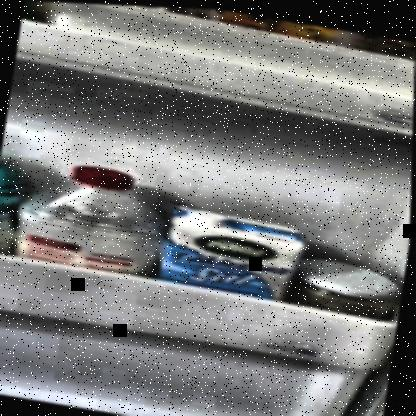milk: (162, 201, 310, 298)
